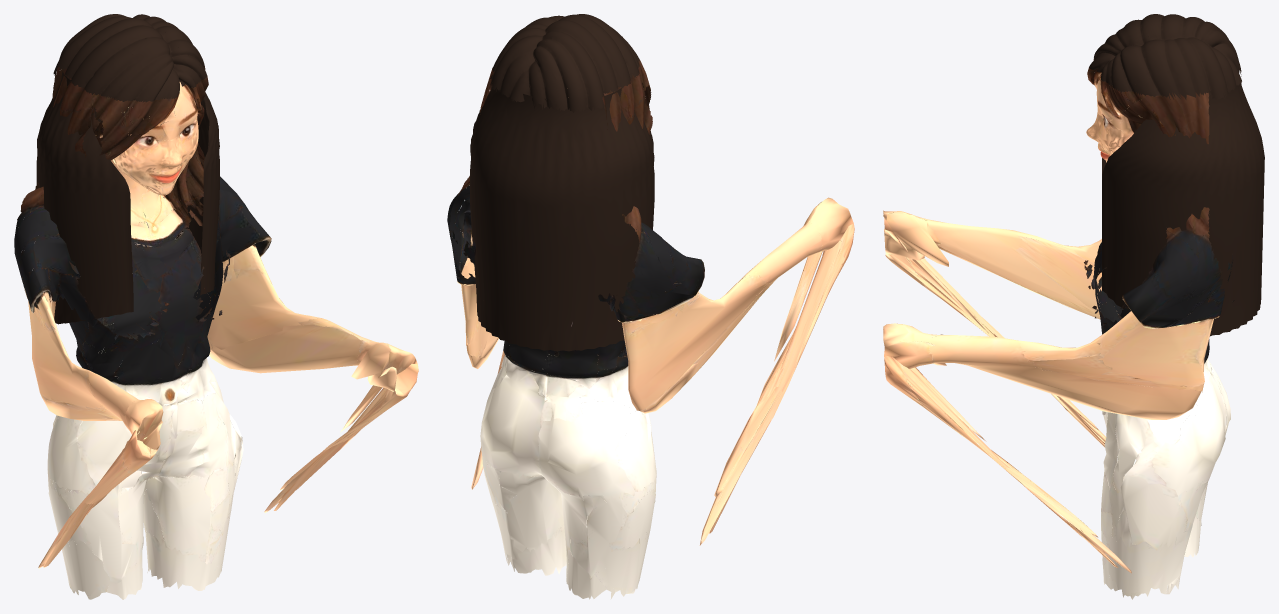
The model's file is teacher-6-6.glb.
3 renders of one model, left to right at view 1: azimuth 30°, elevation 25°; view 2: azimuth 150°, elevation 25°; view 3: azimuth 270°, elevation 25°, orthographic. The views are drawn at different scales.
Visible parts, largest first — view 1: teacher-6-6-운전자, teacher-6-6-운전자.003, teacher-6-6-운전자.001, teacher-6-6-운전자.002; view 2: teacher-6-6-운전자, teacher-6-6-운전자.003, teacher-6-6-운전자.001; view 3: teacher-6-6-운전자, teacher-6-6-운전자.003, teacher-6-6-운전자.001, teacher-6-6-운전자.002.
Boxes of the visible parts, x1,y1,x2,y2 form: teacher-6-6-운전자: [14, 66, 418, 599]; teacher-6-6-운전자.003: [36, 71, 219, 324]; teacher-6-6-운전자.001: [53, 14, 206, 102]; teacher-6-6-운전자.002: [93, 112, 203, 195]; teacher-6-6-운전자: [447, 59, 854, 599]; teacher-6-6-운전자.003: [470, 85, 654, 351]; teacher-6-6-운전자.001: [490, 14, 639, 112]; teacher-6-6-운전자: [883, 58, 1234, 599]; teacher-6-6-운전자.003: [1102, 67, 1264, 336]; teacher-6-6-운전자.001: [1089, 14, 1241, 100]; teacher-6-6-운전자.002: [1086, 91, 1139, 162].
Bounding box in the file's own units: 0.6163 × 1.14 × 0.7219.
3 materials, 2 textured.
